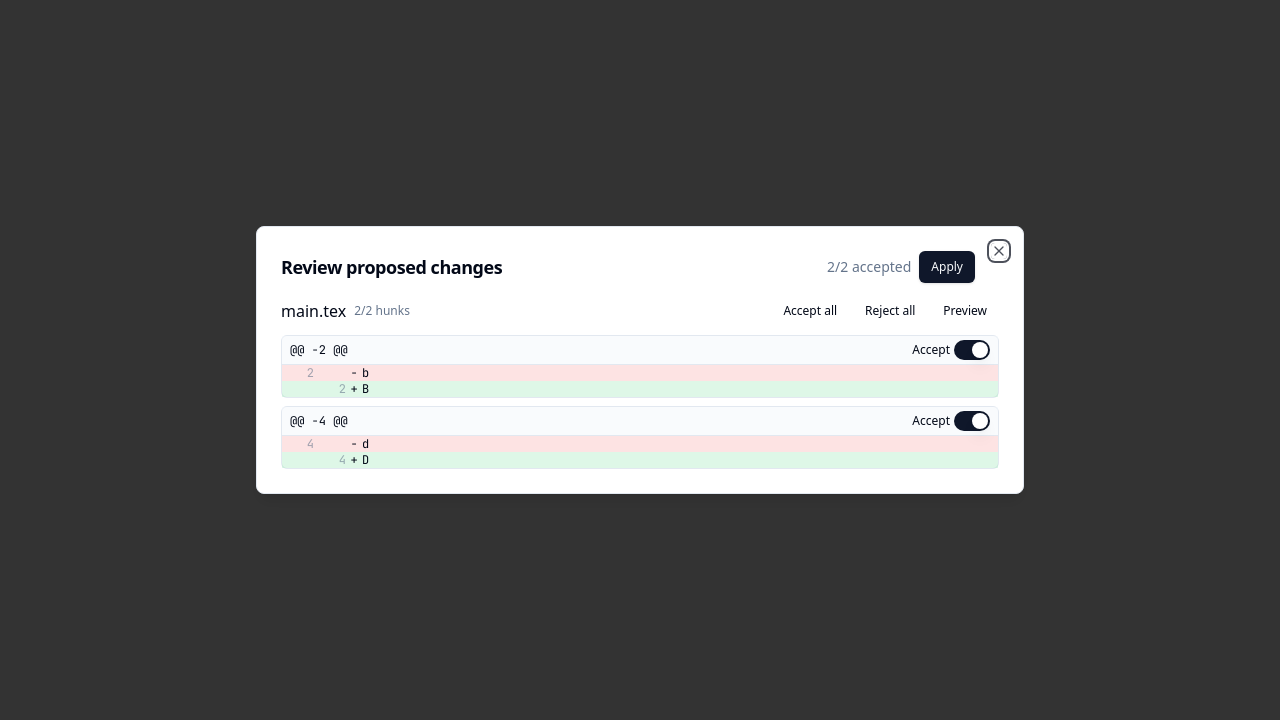
DiffReviewDialog (apply flow) › gates apply behind confirm, then writes only accepted hunks (AC4, AC5, AC8)
The width and height of the screenshot is (1280, 720).
expect the text "main.tex" is shown: met, box [281,299,346,323]
Click the switch named "Accept change: @@ -4 @@" at (972, 421), box [954,411,990,431]
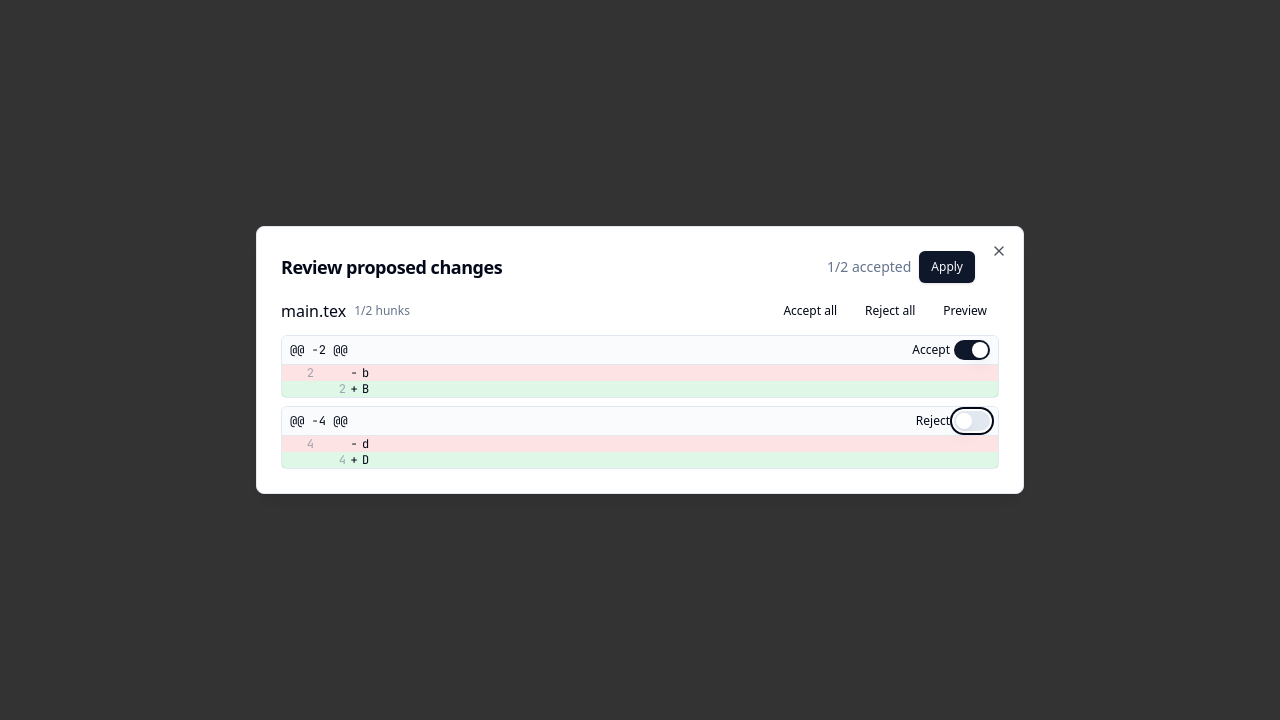
Click the button "Apply" at (947, 267), box [919,251,975,283]
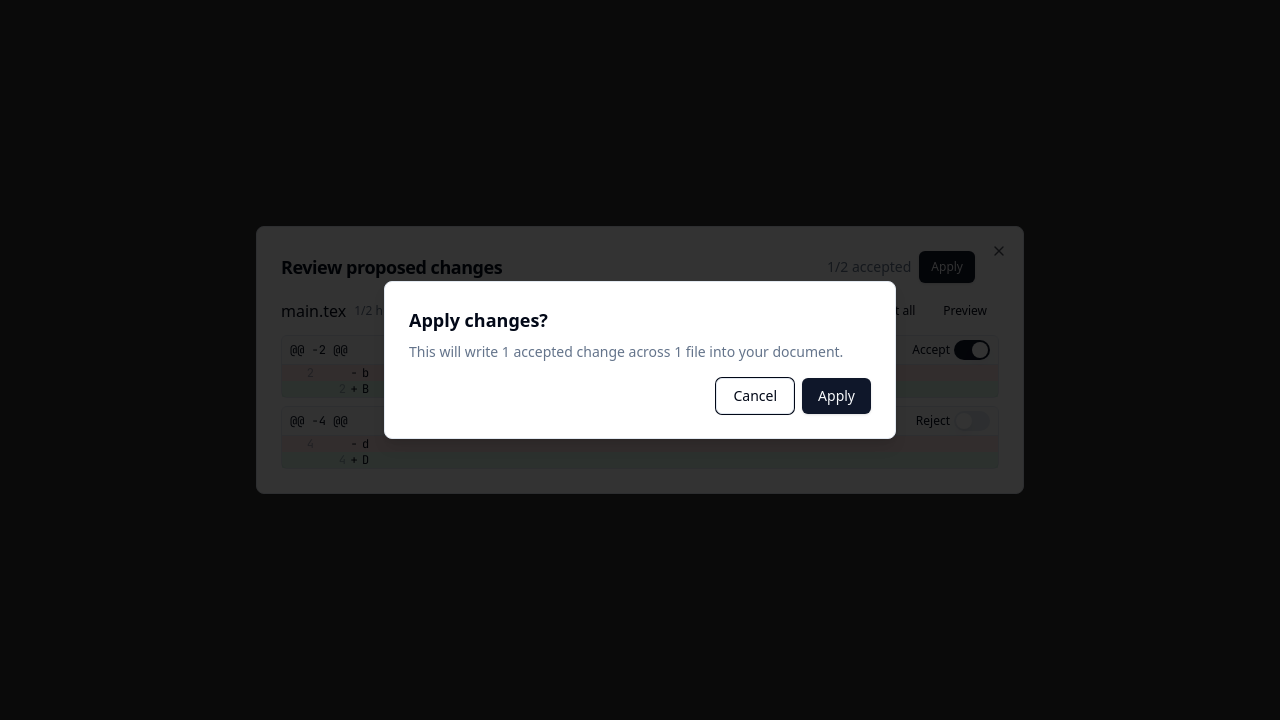
expect the heading "Apply changes?" is shown: met, box [409,308,548,332]
Click the button "Apply" at (837, 396), box [802,378,871,414]
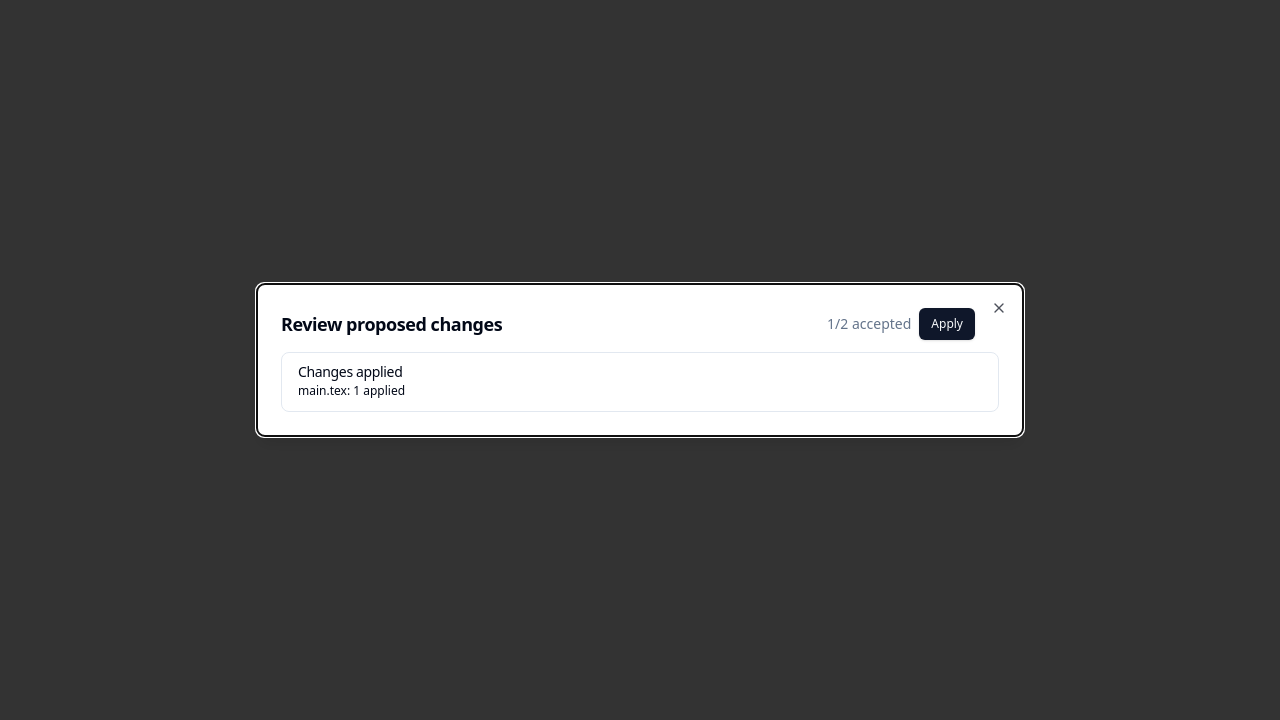
expect the heading "Changes applied" is shown: met, box [298,362,402,381]
